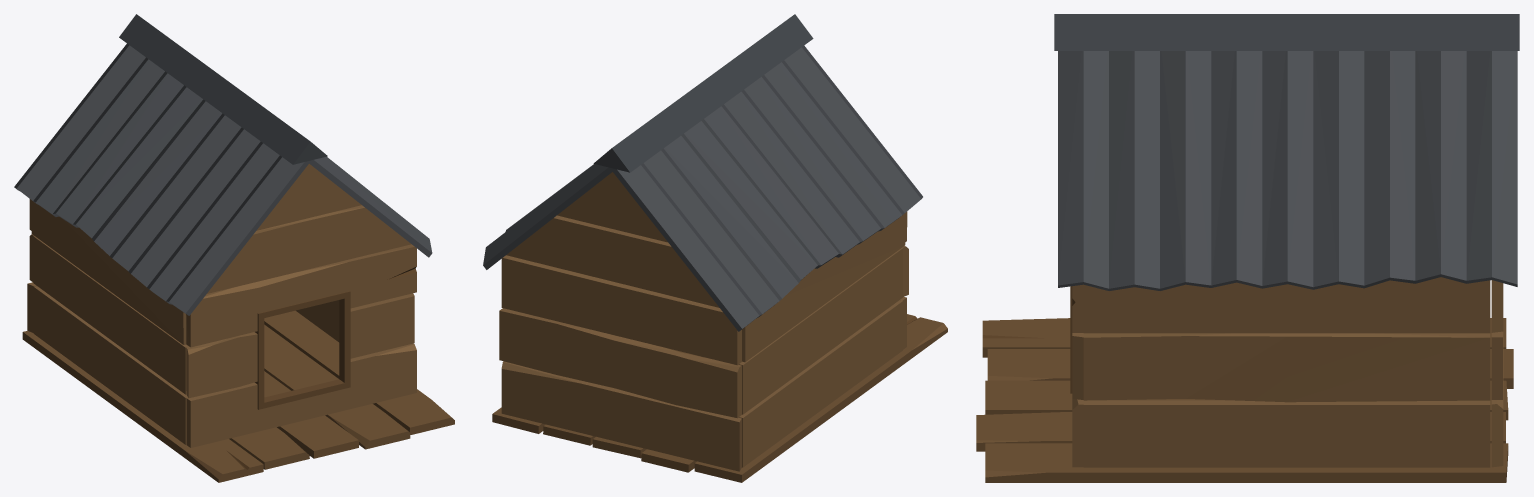
The model's file is Doghouse_01.fbx.
3 renders of one model, left to right at view 1: azimuth 30°, elevation 25°; view 2: azimuth 150°, elevation 25°; view 3: azimuth 270°, elevation 25°, orthographic. The views are drawn at different scales.
Visible parts, largest first — view 1: Doghouse_01; view 2: Doghouse_01; view 3: Doghouse_01.
Boxes of the visible parts, x1=… form: Doghouse_01: x1=14, y1=14, x2=454, y2=482; Doghouse_01: x1=483, y1=14, x2=947, y2=482; Doghouse_01: x1=976, y1=14, x2=1519, y2=482.
Size of the model in its own units: 96.21 by 102 by 128.
